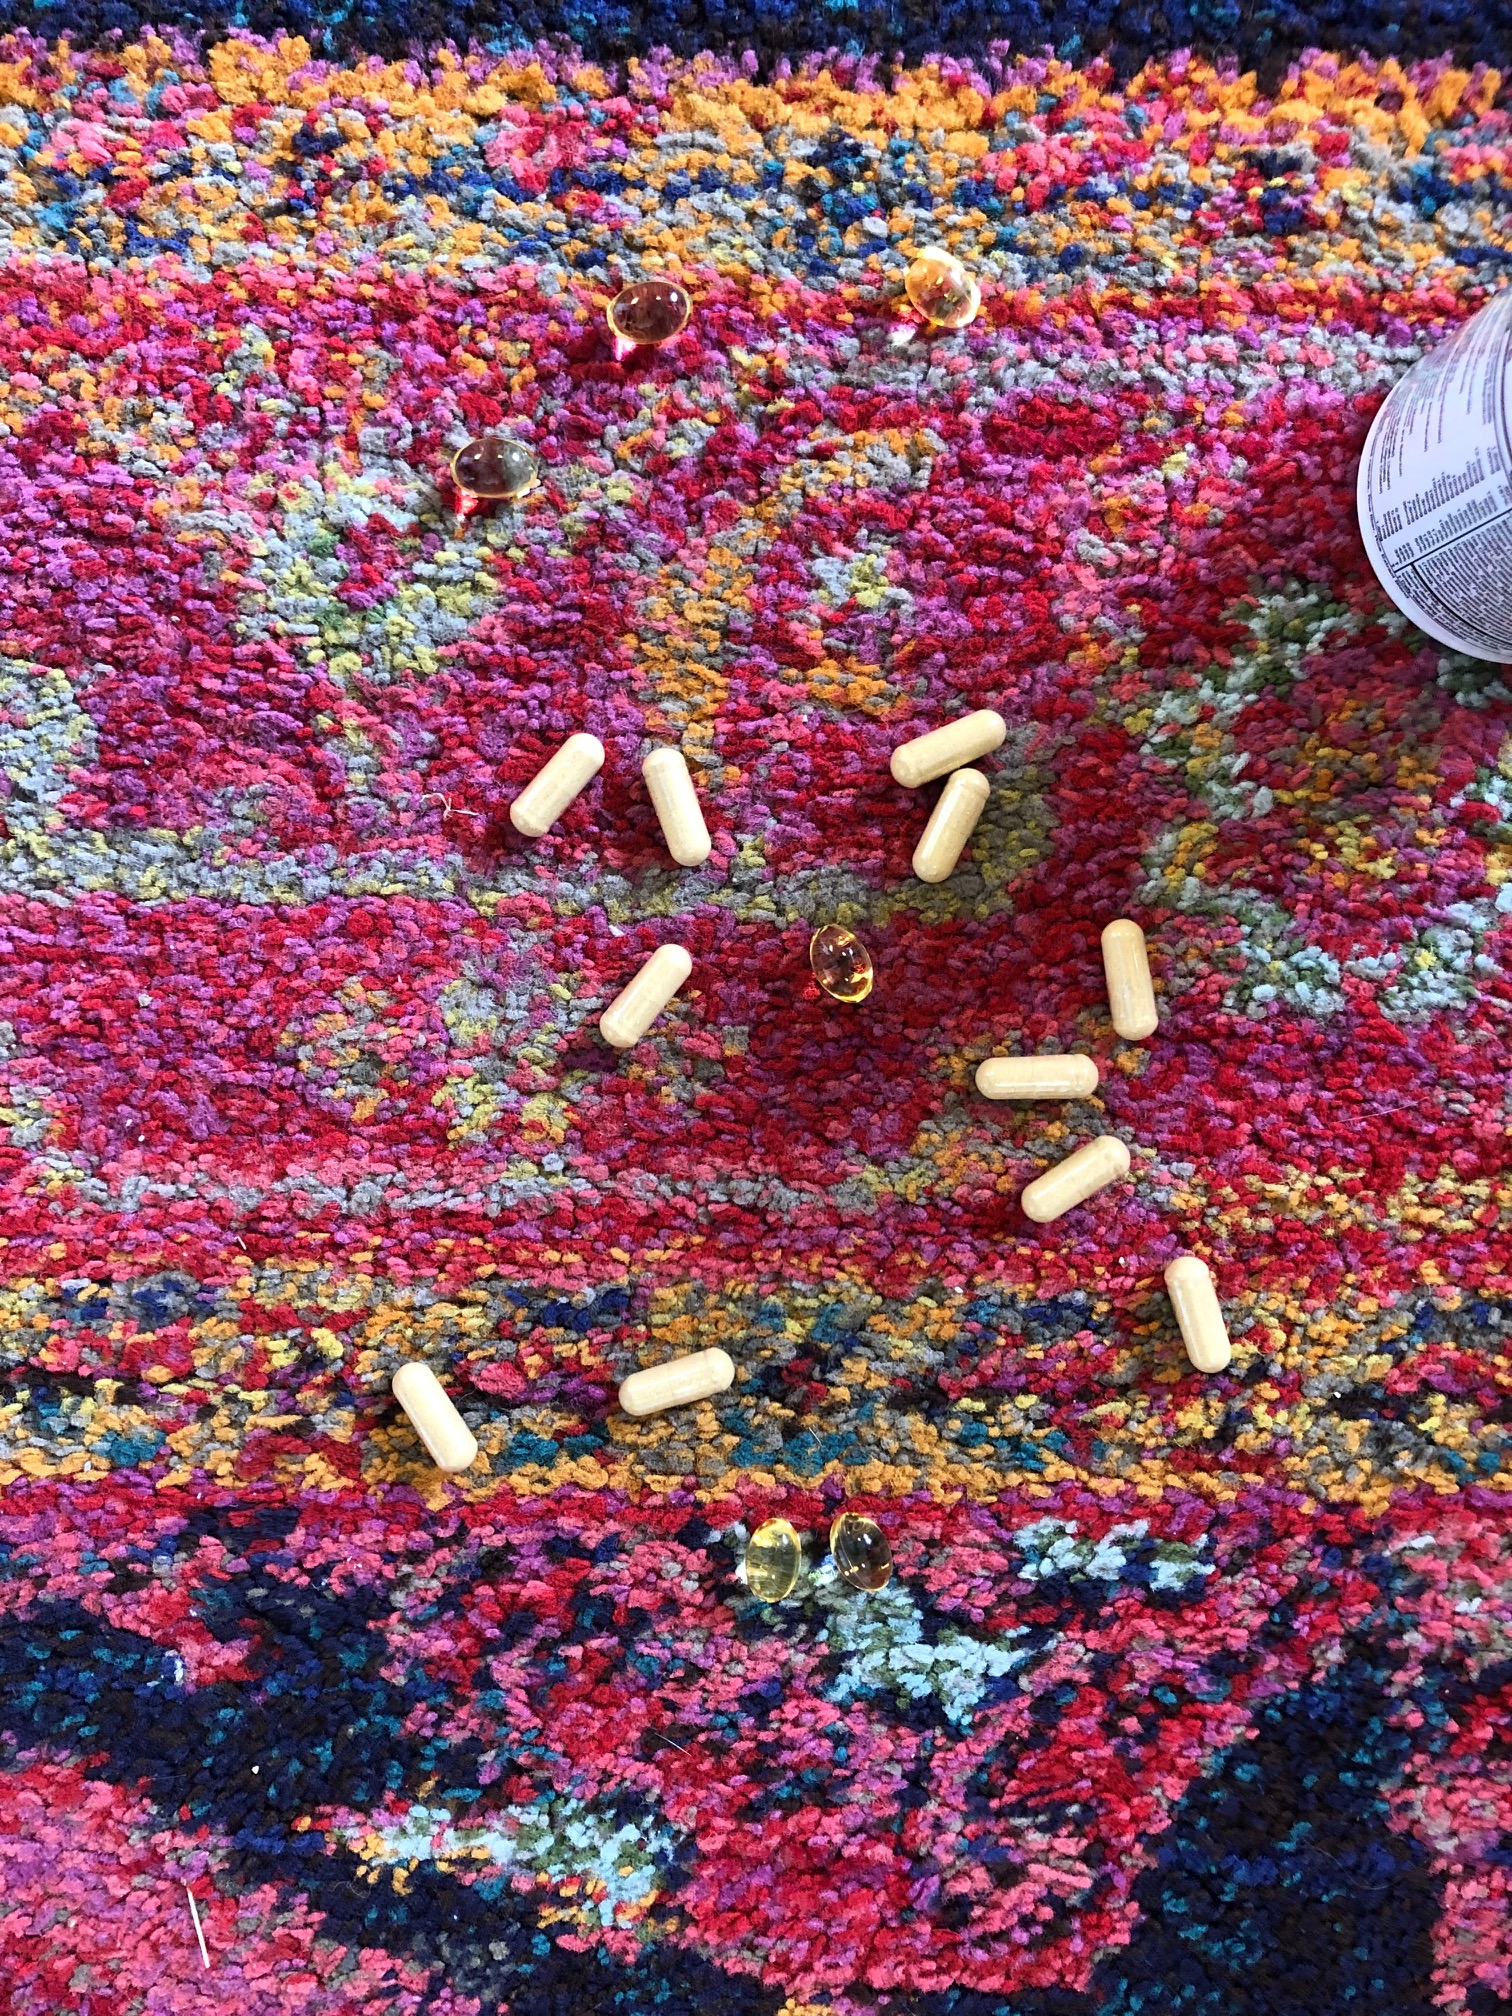capsule: (499, 730, 608, 838), (1020, 1133, 1137, 1233), (388, 1357, 484, 1475), (599, 943, 699, 1052), (889, 708, 1009, 791), (913, 768, 999, 883), (638, 744, 719, 865), (1163, 1249, 1237, 1379), (615, 1340, 739, 1418), (1094, 913, 1163, 1040), (972, 1049, 1104, 1103)
gel: (742, 1508, 807, 1614), (904, 252, 986, 330), (453, 438, 546, 505), (807, 922, 877, 1008), (832, 1508, 897, 1599), (607, 279, 692, 344)
